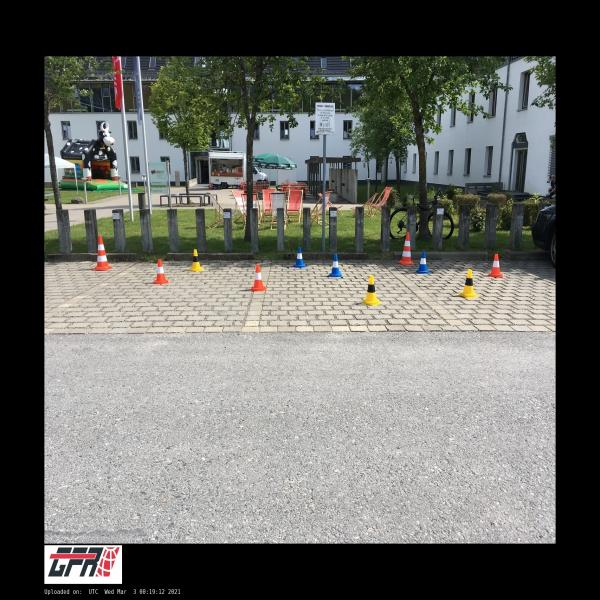blue_cone: (329, 254, 343, 277), (416, 252, 429, 274), (294, 248, 306, 268)
large_orange_cone: (92, 236, 112, 270), (397, 232, 415, 265)
orange_cone: (250, 264, 267, 292), (154, 259, 169, 284), (488, 254, 503, 277)
yellow_cone: (458, 269, 479, 298), (362, 275, 381, 306), (189, 250, 204, 272)
